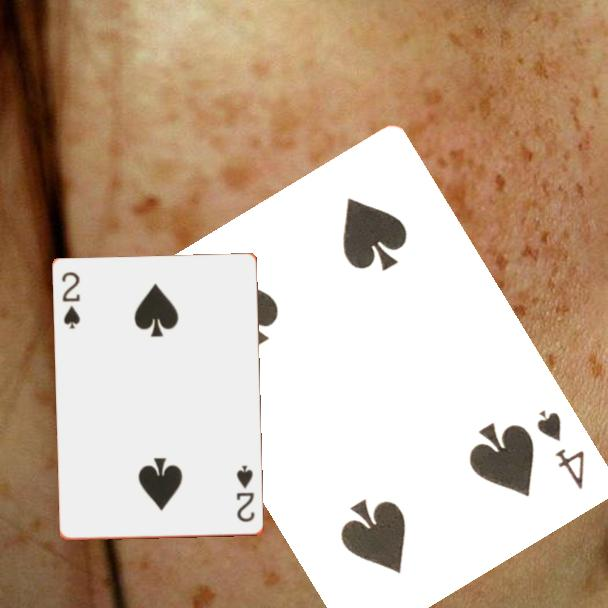s02: (233, 462, 258, 525), (59, 268, 83, 332)
s04: (532, 406, 587, 492)
